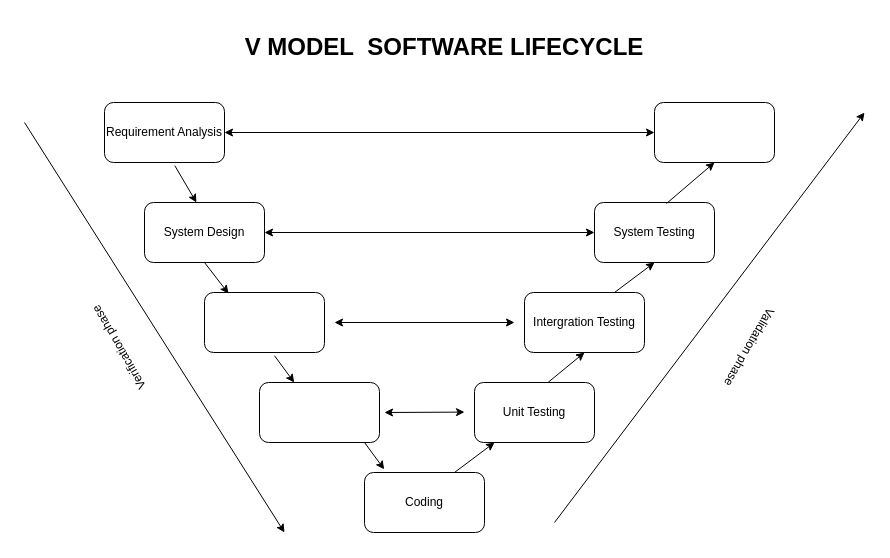
Some shapes in this 890 by 558 pixel diagram are drawn without their labels. The centre of each missing label's shape, as x and y in pixels:
"Accpectance Testing" belongs at (714,132).
"Architecture Design" belongs at (264,322).
"Module Design" belongs at (319,412).
